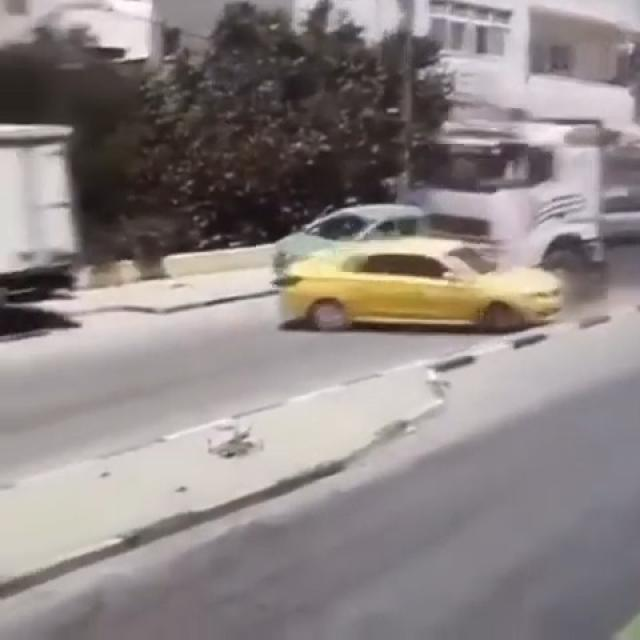accident: (280, 111, 640, 332)
